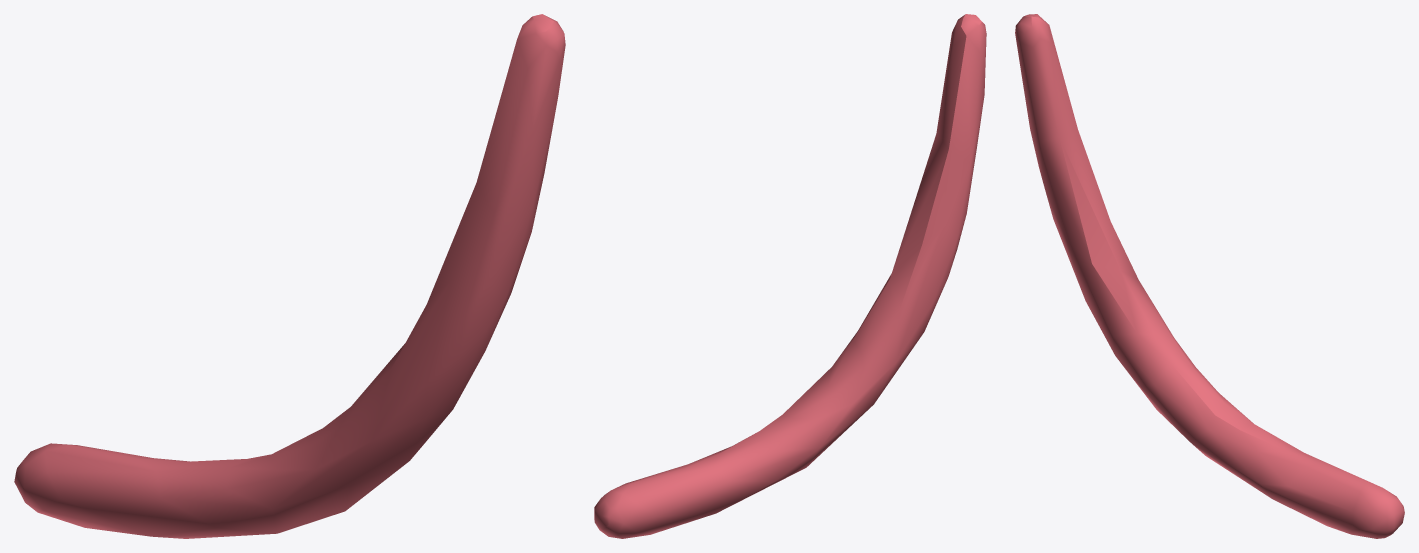
Rendered from fma8662_fj6096.glb.
The picture shows the model from 3 angles, left to right: view 1: azimuth 90°, elevation 25°; view 2: azimuth 150°, elevation 25°; view 3: azimuth 270°, elevation 25°; orthographic projection. The views are drawn at different scales.
Parts seen in each view (by area): view 1: FMA8662_FJ6096; view 2: FMA8662_FJ6096; view 3: FMA8662_FJ6096.
Boxes of the visible parts, box(x1,y1,x2,y2) form: FMA8662_FJ6096: box(14, 14, 565, 538); FMA8662_FJ6096: box(594, 14, 986, 538); FMA8662_FJ6096: box(1015, 14, 1404, 538).
Bounding box in the file's own units: 0.0134 × 0.026 × 0.021.
